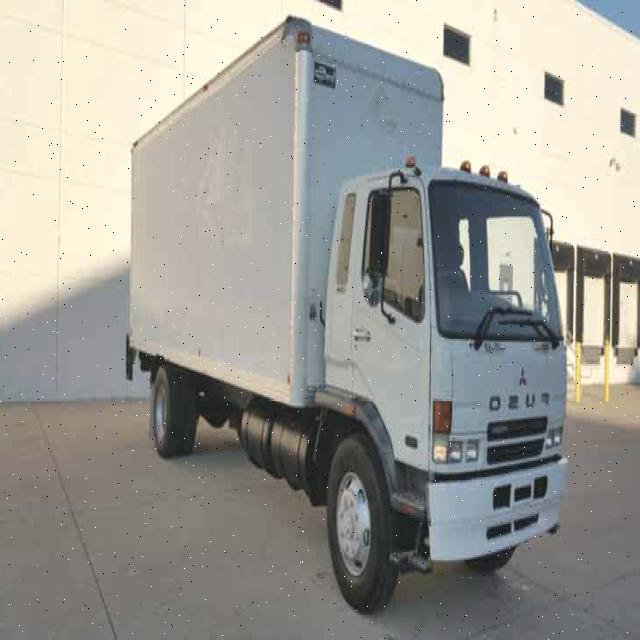truck: (126, 16, 570, 612)
